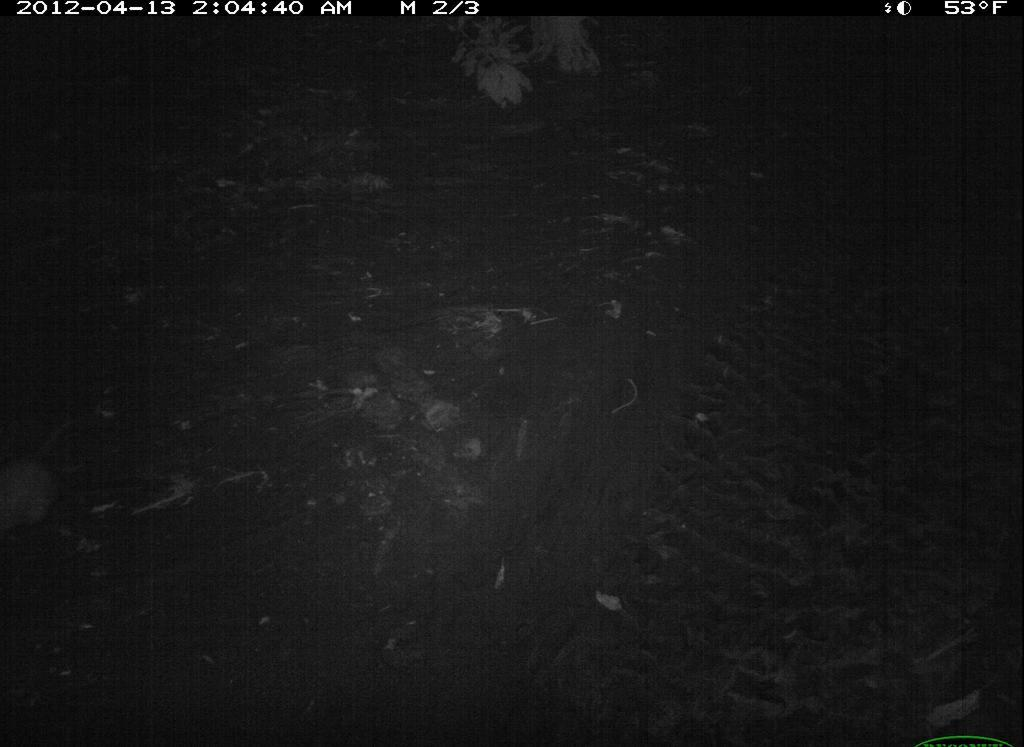opossum: (2, 400, 86, 553)
